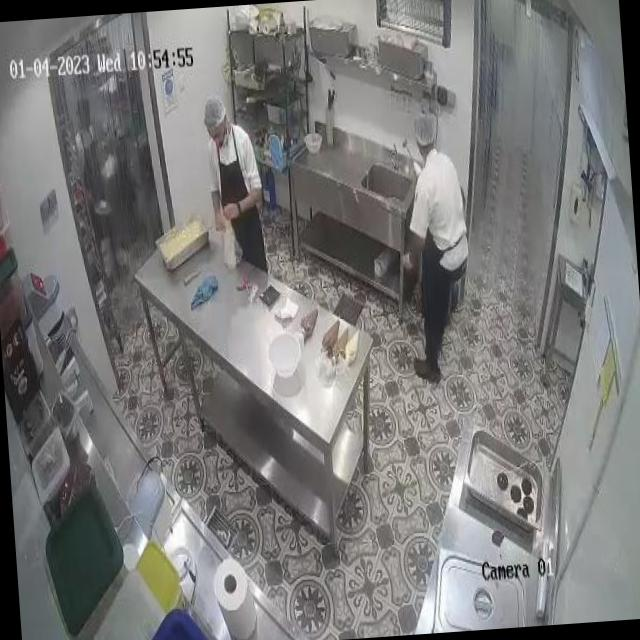hairnet: (411, 112, 436, 146), (204, 98, 226, 129)
